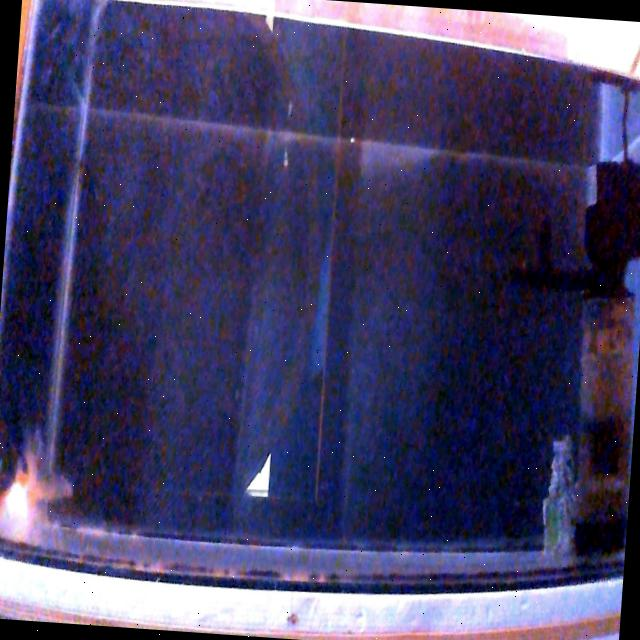fish: (0, 433, 73, 542)
